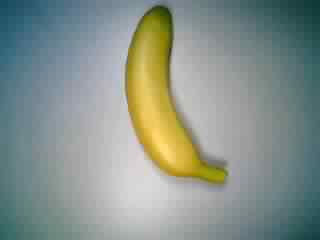banana: (121, 4, 232, 187)
